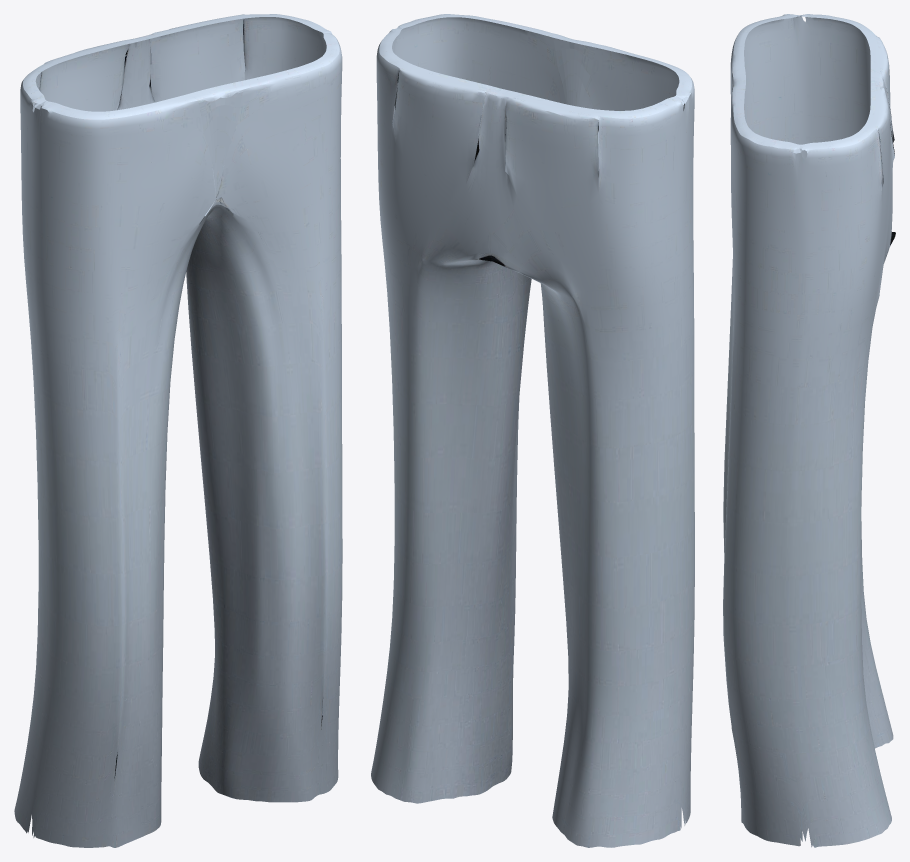
Rendered from pradapants.gltf.
The picture shows the model from 3 angles, left to right: view 1: azimuth 30°, elevation 25°; view 2: azimuth 150°, elevation 25°; view 3: azimuth 270°, elevation 25°; orthographic projection. The views are drawn at different scales.
Visible parts, largest first — view 1: Cylinder.001; view 2: Cylinder.001; view 3: Cylinder.001.
Boxes of the visible parts, <box> form: Cylinder.001: <box>14,14,342,847</box>; Cylinder.001: <box>371,14,694,847</box>; Cylinder.001: <box>723,14,895,847</box>.
Size of what is drawn, in the model's own units: 5.25 by 12.29 by 2.75.
1 material, 1 textured.
